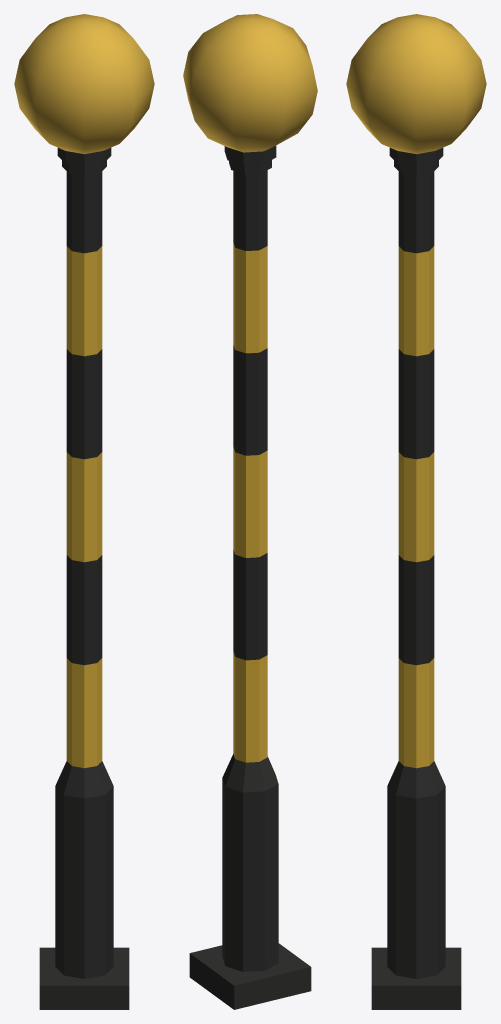
File: roadBeacon.fbx
3 renders of one model, left to right at view 1: azimuth 90°, elevation 25°; view 2: azimuth 210°, elevation 25°; view 3: azimuth 270°, elevation 25°, orthographic.
Parts seen in each view (by area): view 1: roadBeacon; view 2: roadBeacon; view 3: roadBeacon.
Part boxes in pixels (x1=…): roadBeacon: x1=14, y1=14, x2=154, y2=1009; roadBeacon: x1=183, y1=14, x2=317, y2=1009; roadBeacon: x1=346, y1=14, x2=486, y2=1009.
Size of the model in its own units: 30 by 229 by 30.
2 materials, 1 textured.
